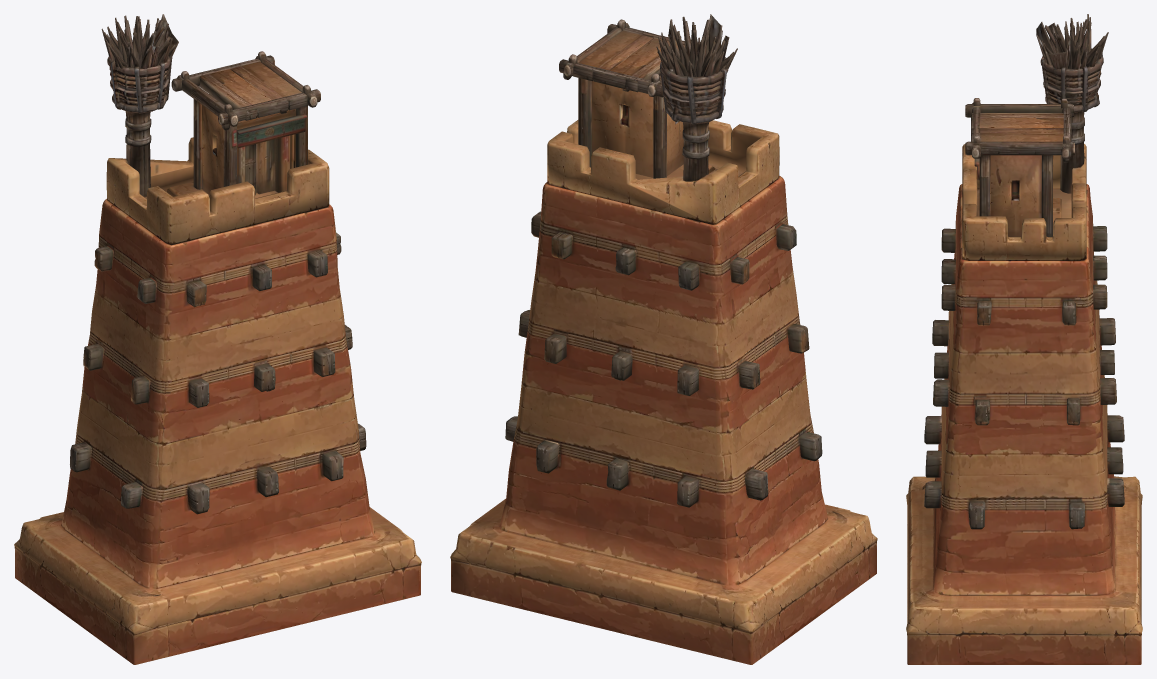
File: SM_Tripo_DesertBeaconTower.glb
The picture shows the model from 3 angles, left to right: view 1: azimuth 30°, elevation 25°; view 2: azimuth 150°, elevation 25°; view 3: azimuth 270°, elevation 25°; orthographic projection. The views are drawn at different scales.
Parts seen in each view (by area): view 1: SM_Tripo_DesertBeaconTower_LOD0; view 2: SM_Tripo_DesertBeaconTower_LOD0; view 3: SM_Tripo_DesertBeaconTower_LOD0.
Boxes of the visible parts, left/top/right/bottom form: SM_Tripo_DesertBeaconTower_LOD0: left=14, top=14, right=421, bottom=664; SM_Tripo_DesertBeaconTower_LOD0: left=450, top=14, right=877, bottom=664; SM_Tripo_DesertBeaconTower_LOD0: left=906, top=14, right=1142, bottom=664.
Bounding box in the file's own units: 7.52 × 14 × 5.46.
1 material, 1 textured.
